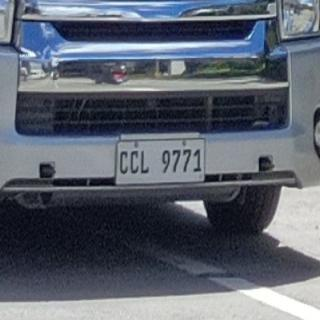license: (117, 139, 205, 186)
